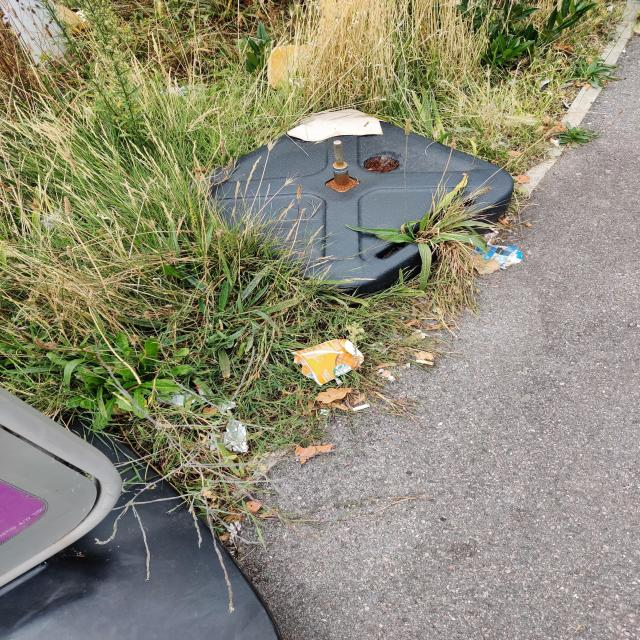litter: (0, 0, 77, 68), (289, 339, 365, 385), (287, 109, 389, 140), (266, 44, 312, 89), (52, 3, 104, 34), (191, 376, 237, 411), (210, 418, 249, 452), (471, 244, 522, 268), (38, 207, 80, 232), (159, 83, 211, 100), (153, 388, 199, 404), (352, 403, 371, 412), (415, 359, 434, 366), (487, 225, 499, 234)
